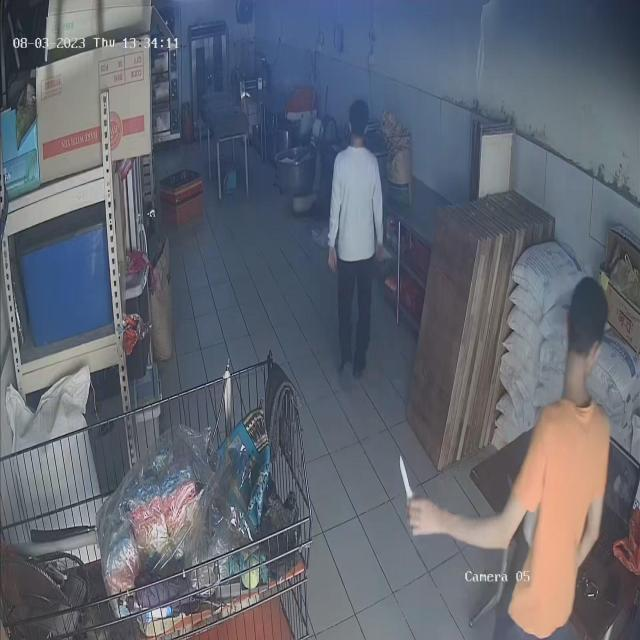Knife: (387, 450, 425, 516)
